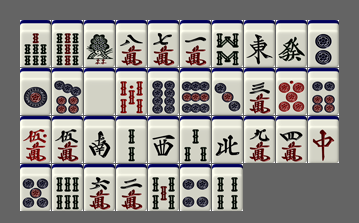0m: (20, 116, 51, 163)
0p: (276, 68, 307, 115)
0s: (116, 68, 147, 115)
1m: (180, 20, 211, 67)
1p: (20, 68, 51, 115)
1s: (84, 20, 115, 67)
1z: (244, 20, 275, 67)
2m: (116, 164, 147, 211)
2p: (308, 20, 339, 67)
2s: (116, 116, 147, 163)
2z: (84, 116, 115, 163)
3m: (244, 68, 275, 115)
3p: (212, 68, 243, 115)
3s: (180, 116, 211, 163)
3z: (148, 116, 179, 163)
4m: (276, 116, 307, 163)
4p: (180, 164, 211, 211)
4s: (212, 164, 243, 211)
4z: (212, 116, 243, 163)
5m: (52, 116, 83, 163)
5p: (20, 164, 51, 211)
5s: (148, 164, 179, 211)
5z: (84, 68, 115, 115)
6m: (84, 164, 115, 211)
6p: (308, 68, 339, 115)
6s: (52, 164, 83, 211)
6z: (276, 20, 307, 67)
7m: (148, 20, 179, 67)
7p: (52, 68, 83, 115)
7s: (20, 20, 51, 67)
7z: (308, 116, 339, 163)
8m: (116, 20, 147, 67)
8p: (148, 68, 179, 115)
8s: (212, 20, 243, 67)
9m: (244, 116, 275, 163)
9p: (180, 68, 211, 115)
9s: (52, 20, 83, 67)
